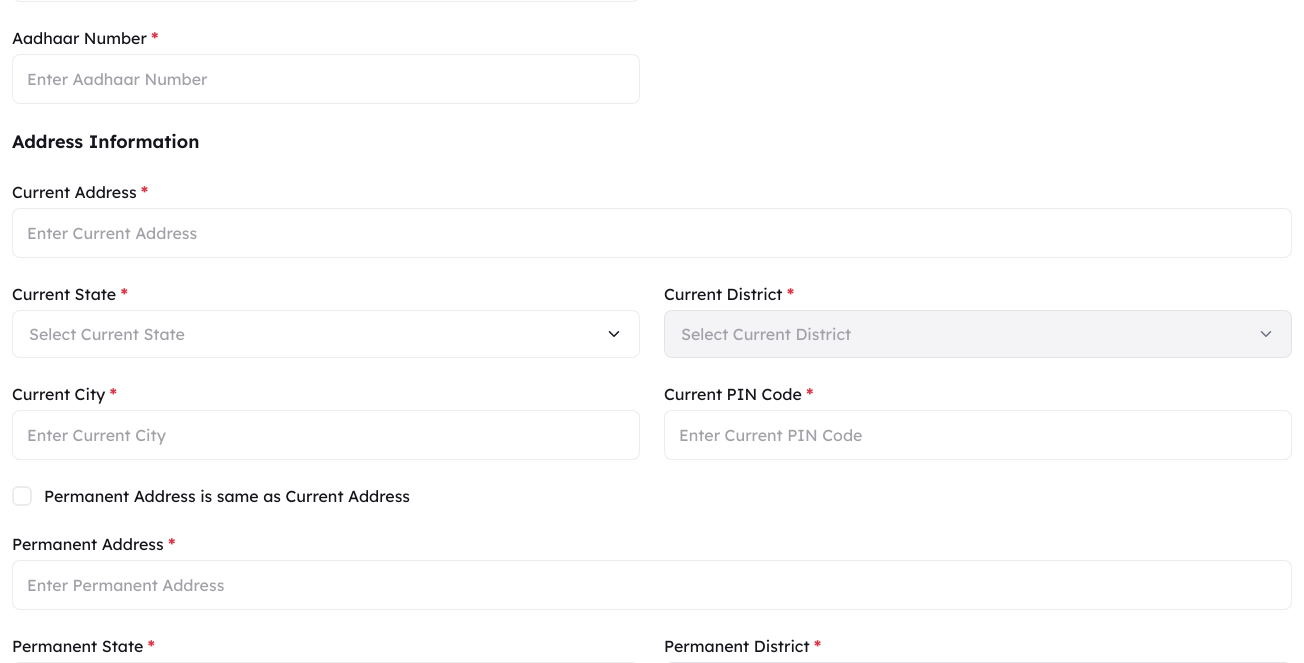
Scenario: PersonalInformationForm › loads the districts of the selected state, and keeps the district locked until then
(page scrolled)
Expected: the button "Select Current District" is disabled, [664,310,1292,358]
Click the button "Select Current State" at [107, 334], box [12,310,640,358]
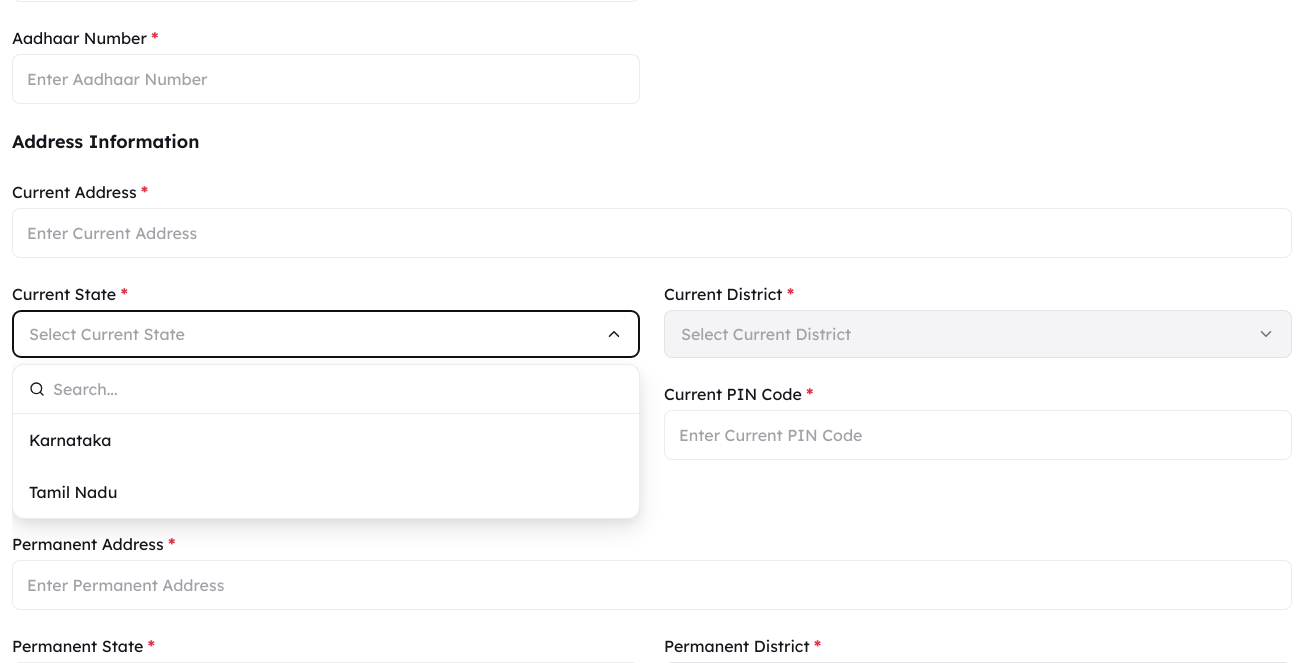
Click the button "Karnataka" at [70, 440], box [13,414,639,466]
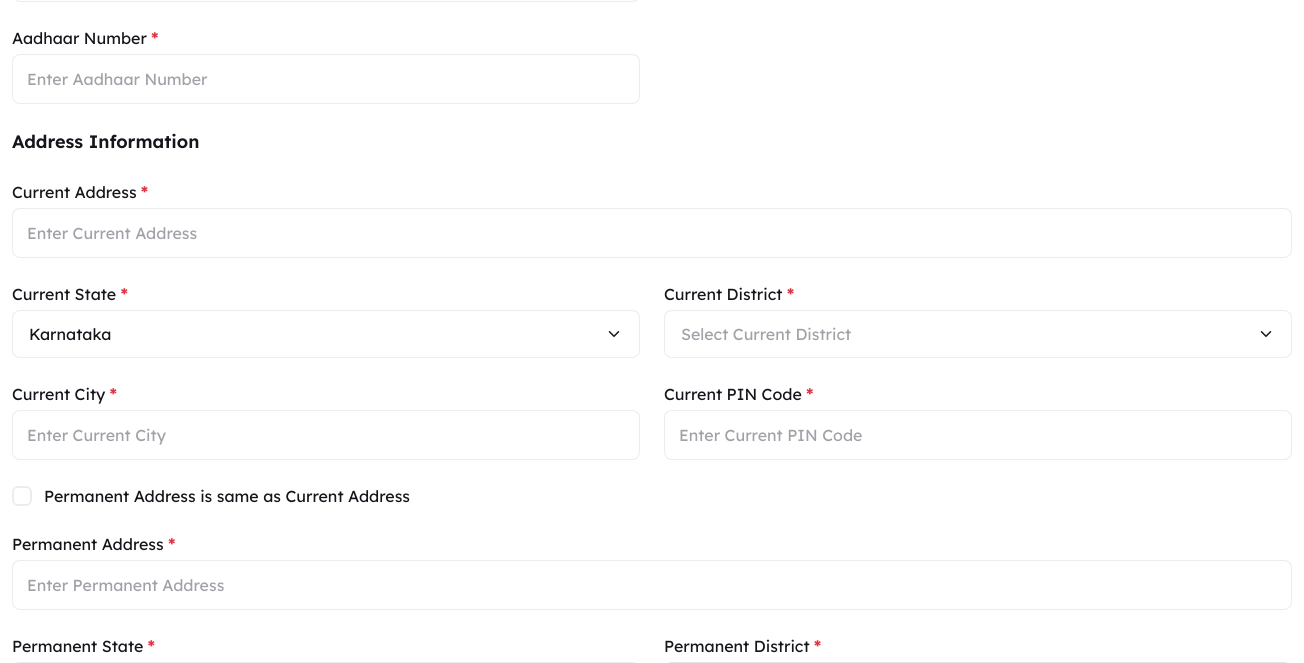
Click the button "Select Current District" at [766, 334], box [664,310,1292,358]
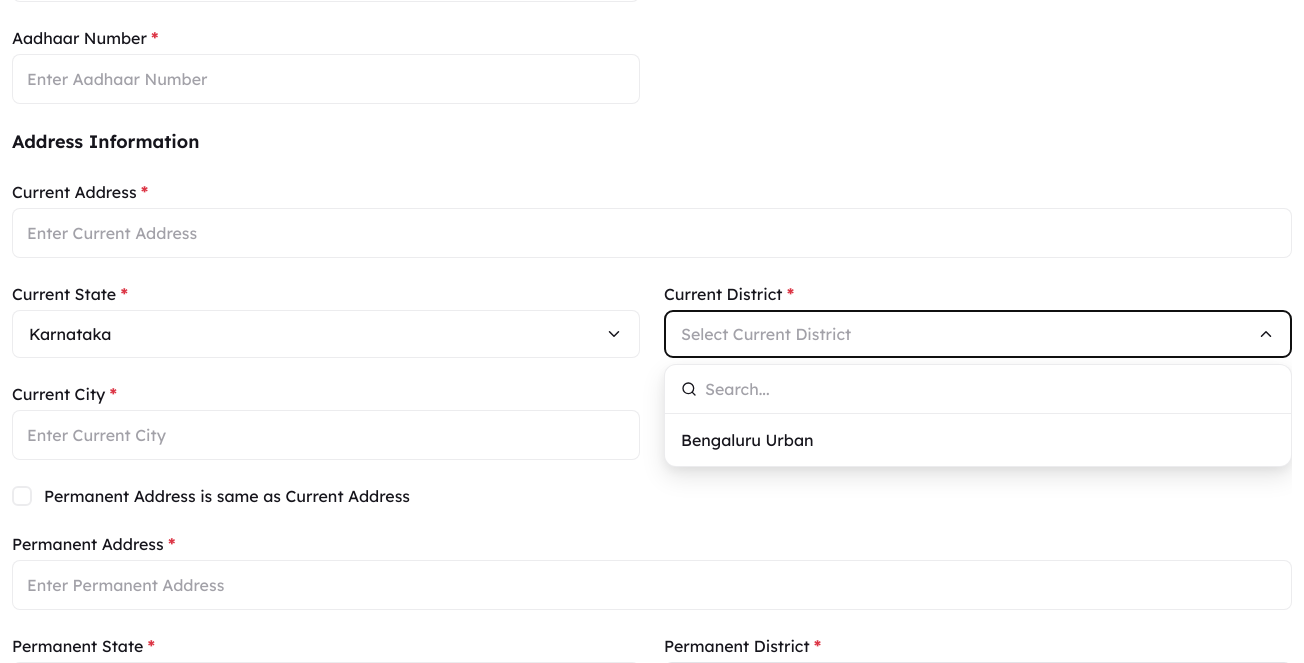
Expected: the button "Bengaluru Urban" is shown, [665,414,1291,466]
